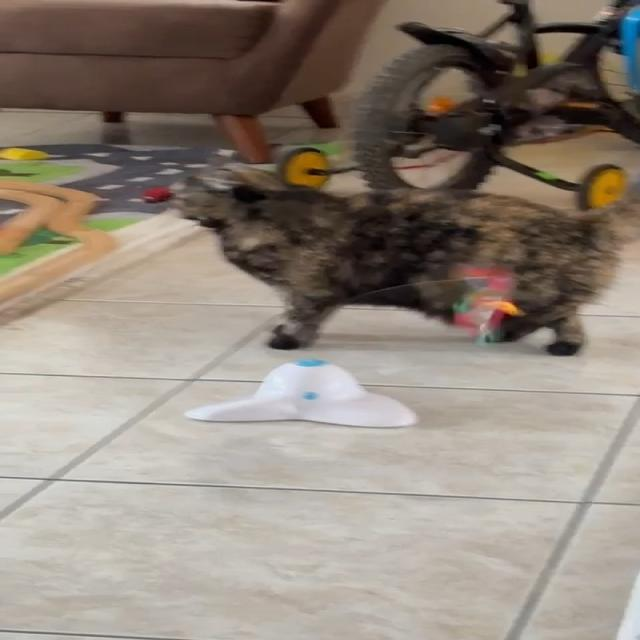authorized: (167, 163, 637, 356)
